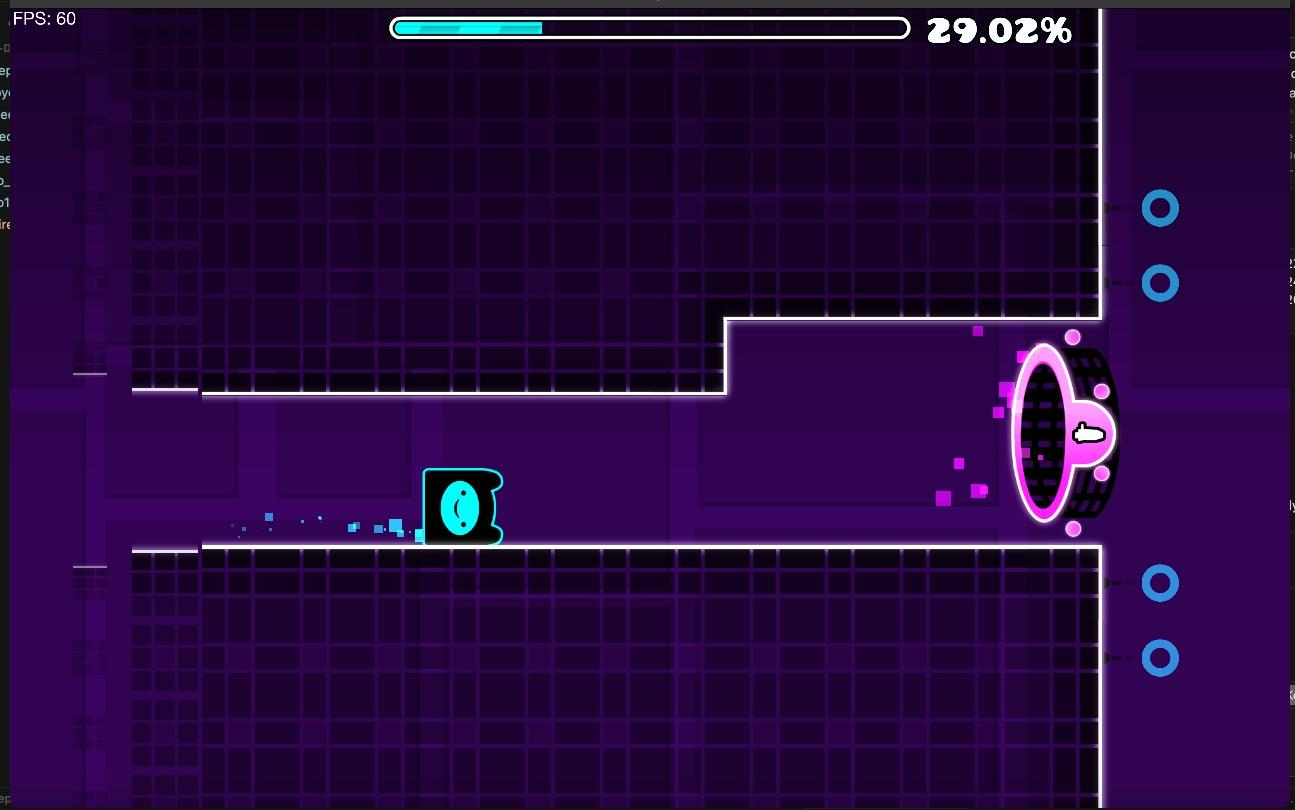block: (133, 550, 1099, 806)
player: (423, 468, 503, 544)
portal: (1014, 347, 1119, 519)
